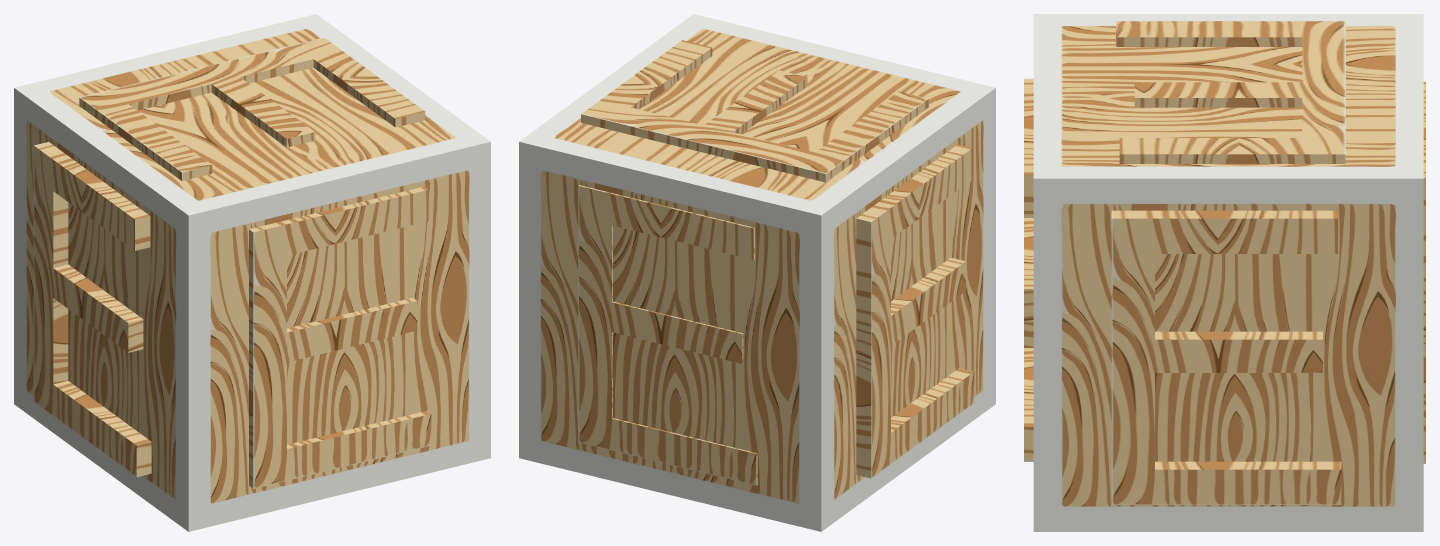
The model's file is Block E.fbx.
3 views of the same model, side by side, from view 1: azimuth 30°, elevation 25°; view 2: azimuth 150°, elevation 25°; view 3: azimuth 270°, elevation 25° (orthographic). The views are drawn at different scales.
Parts seen in each view (by area): view 1: Box, FRONT, LEFT, TOP; view 2: Box, BACK, LEFT, TOP; view 3: Box, RIGHT, TOP, FRONT, BACK.
Boxes of the visible parts, left/top/right/bottom form: Box: left=14, top=14, right=490, bottom=531; FRONT: left=249, top=186, right=431, bottom=488; LEFT: left=33, top=142, right=151, bottom=476; TOP: left=79, top=37, right=425, bottom=180; Box: left=519, top=14, right=995, bottom=531; BACK: left=578, top=185, right=757, bottom=485; LEFT: left=856, top=144, right=974, bottom=478; TOP: left=581, top=40, right=928, bottom=182; Box: left=1033, top=14, right=1423, bottom=531; RIGHT: left=1111, top=210, right=1341, bottom=504; TOP: left=1116, top=21, right=1345, bottom=163; FRONT: left=1024, top=78, right=1033, bottom=461; BACK: left=1423, top=82, right=1425, bottom=463.
Bounding box in the file's own units: 1.1 × 1.04 × 1.03.
Materials: 2 (2 with a texture image).
